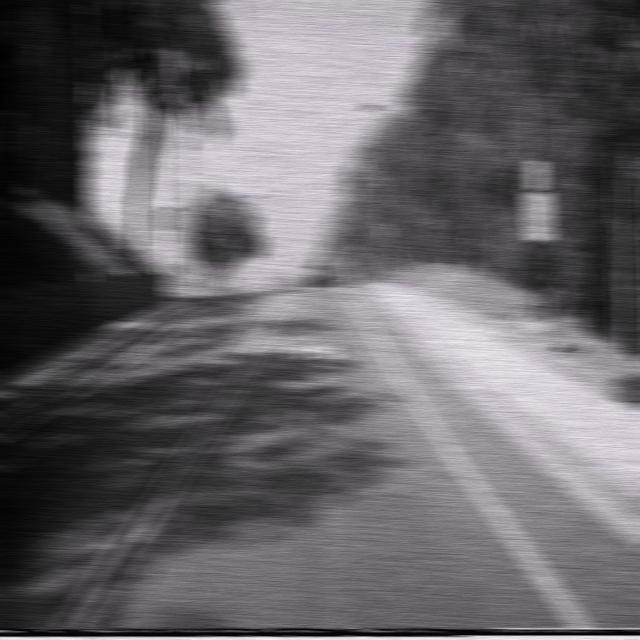speedLimit35: (522, 189, 554, 241)
